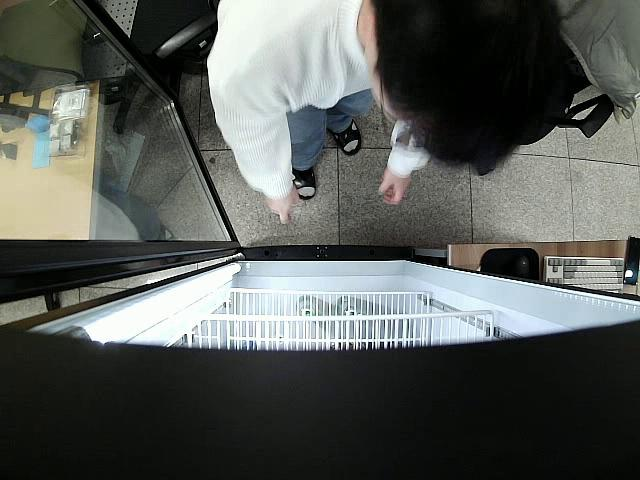00_hand: (261, 185, 298, 226), (379, 166, 411, 205)
